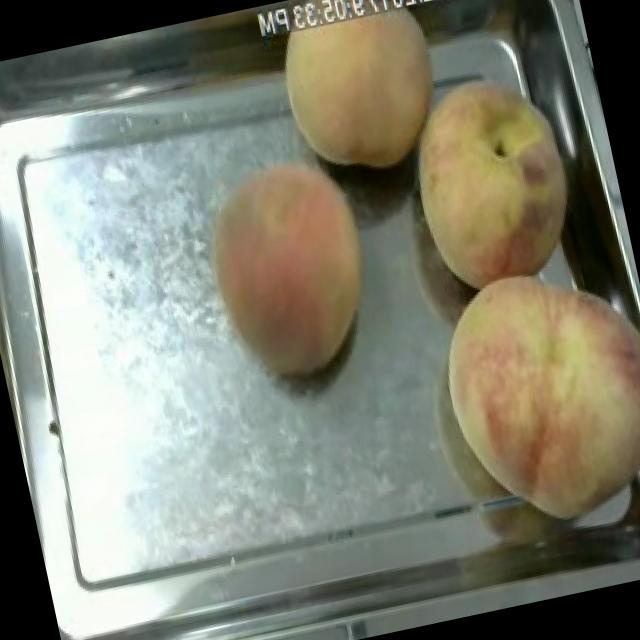Fruit: (413, 239, 640, 559), (180, 136, 400, 402), (382, 49, 602, 310), (261, 0, 463, 193)
